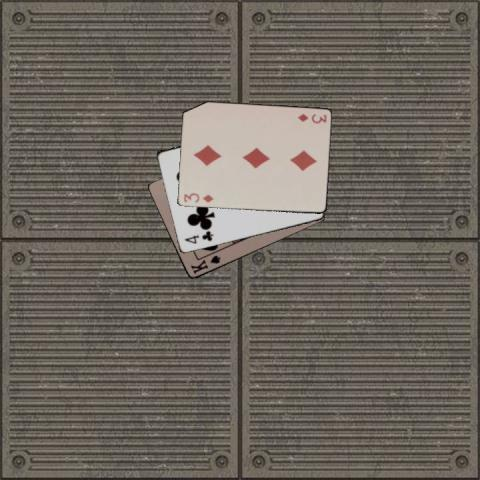3d: (180, 190, 214, 204), (294, 111, 328, 125)
4c: (181, 229, 215, 245)
Ks: (187, 253, 222, 276)
